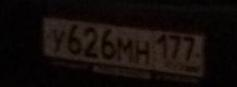license-plateSW: (42, 15, 206, 77)
